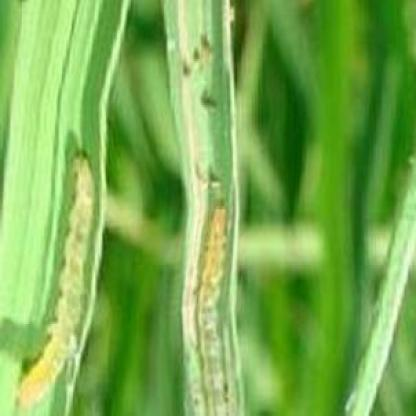leaf-folder: (13, 142, 104, 416), (174, 181, 258, 416)
